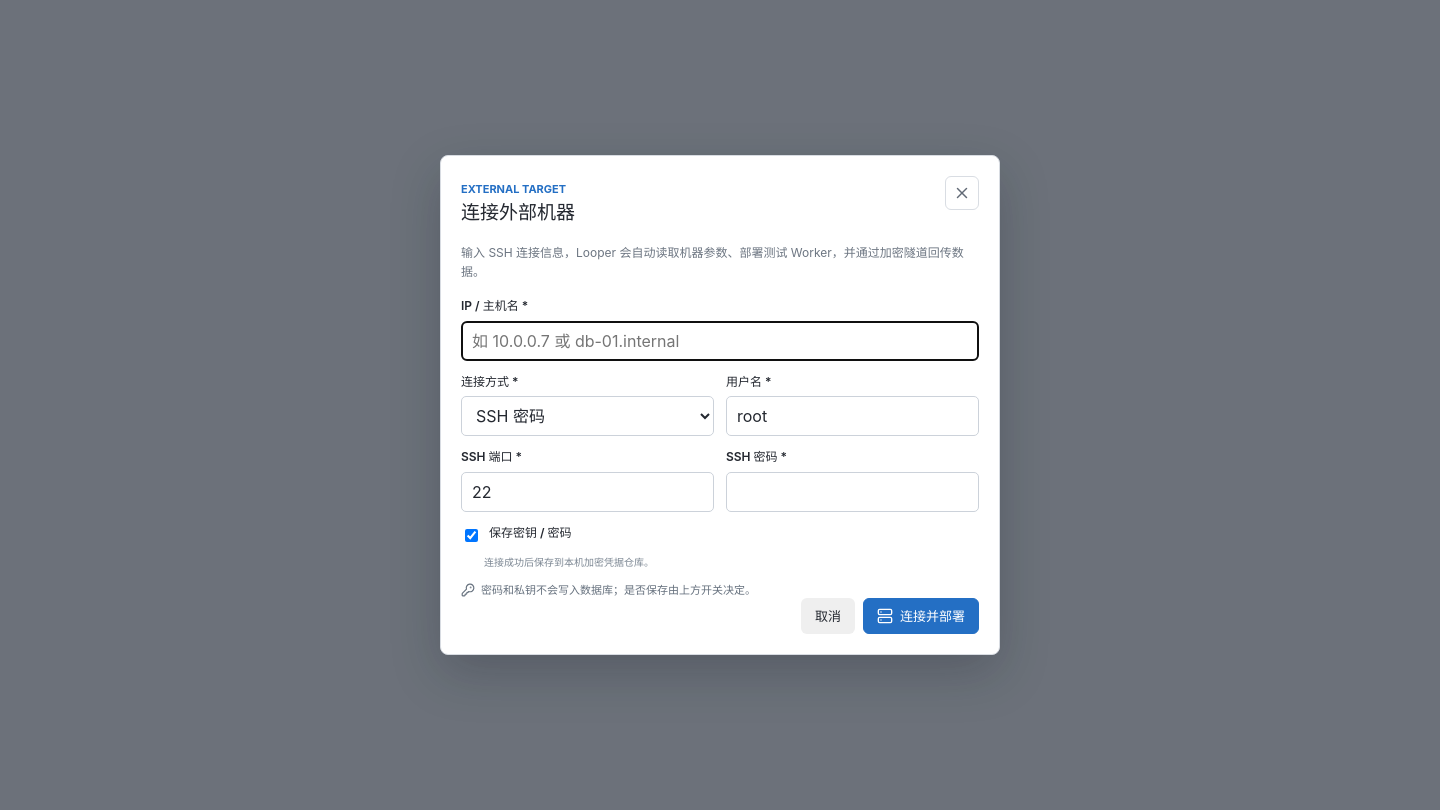
Test: 外部机器 SSH 自动发现 › 只提交连接信息并展示服务端发现的机器参数
Expected: the dropdown labelled "连接方式 *" shows "SSH 密码", [461,396,714,436]
Type "10.0.0.8" into the field labelled "IP / 主机名 *" at (720, 341), box [461,321,979,361]
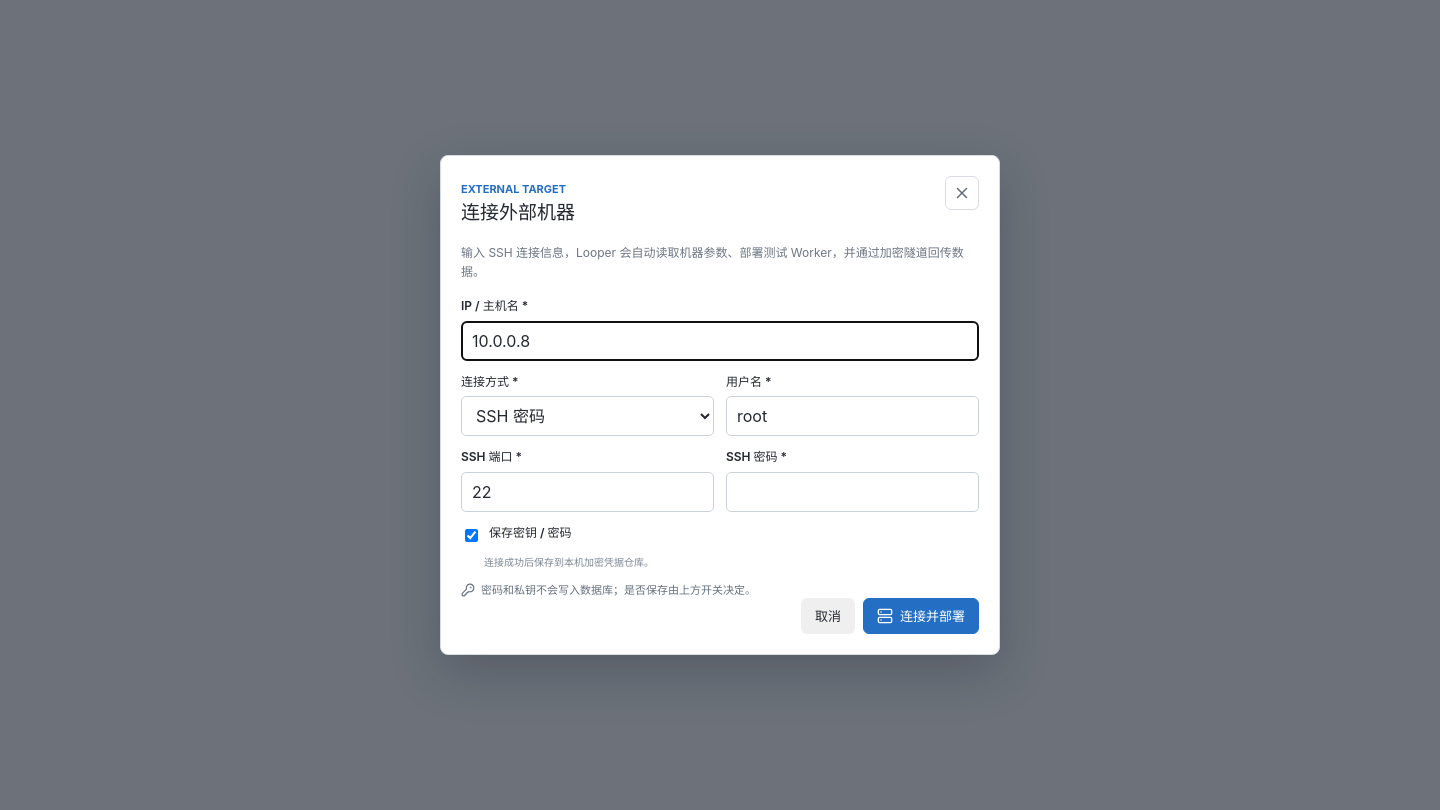
Type "ubuntu" into the field labelled "用户名 *" at (852, 416), box [726,396,979,436]
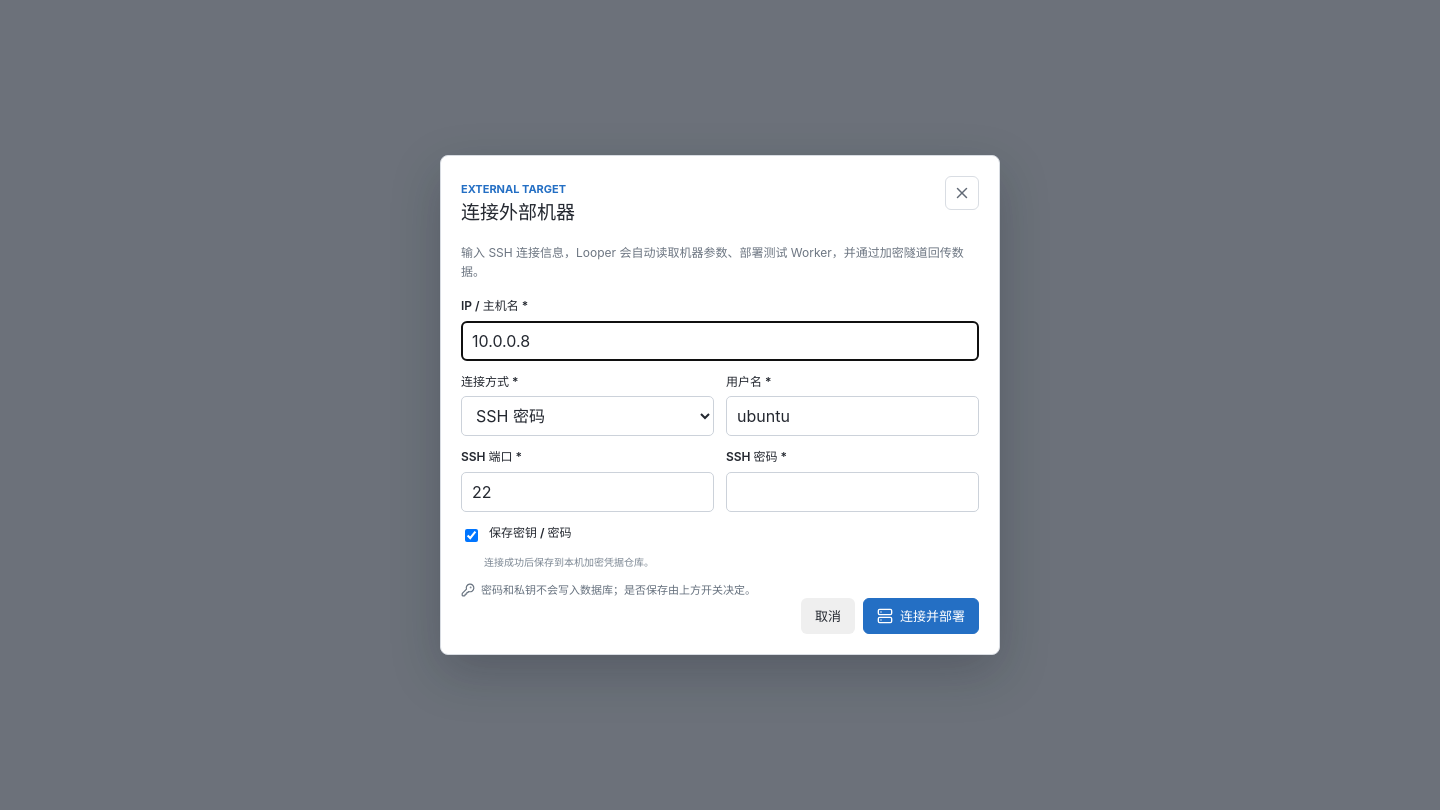
Select "SSH 密码" in the dropdown labelled "连接方式 *" at (588, 416), box [461,396,714,436]
Type "one-time-secret" into the password field labelled "SSH 密码 *" at (852, 492), box [726,472,979,512]
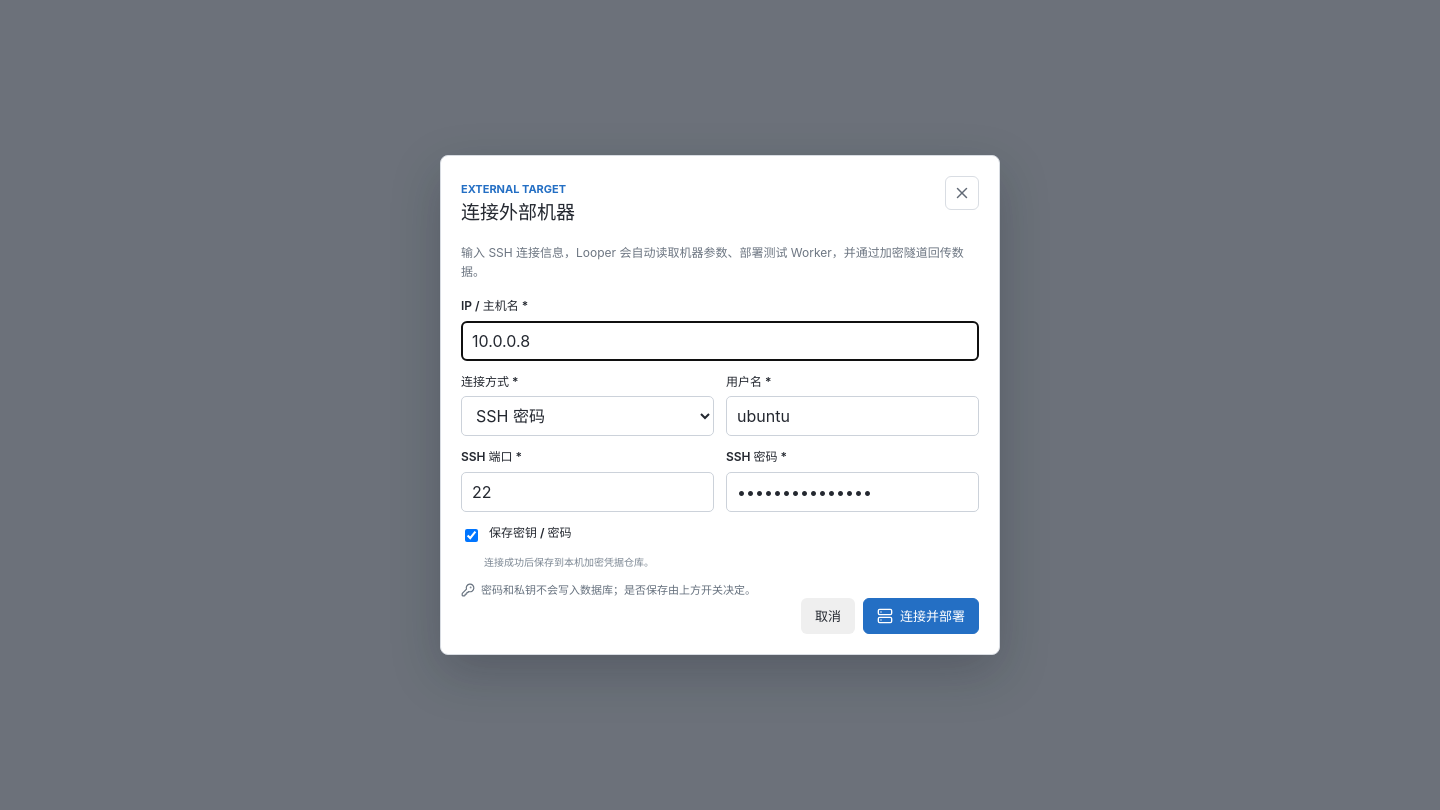
Click the button "连接并部署" at (921, 616), box [863,598,979,634]
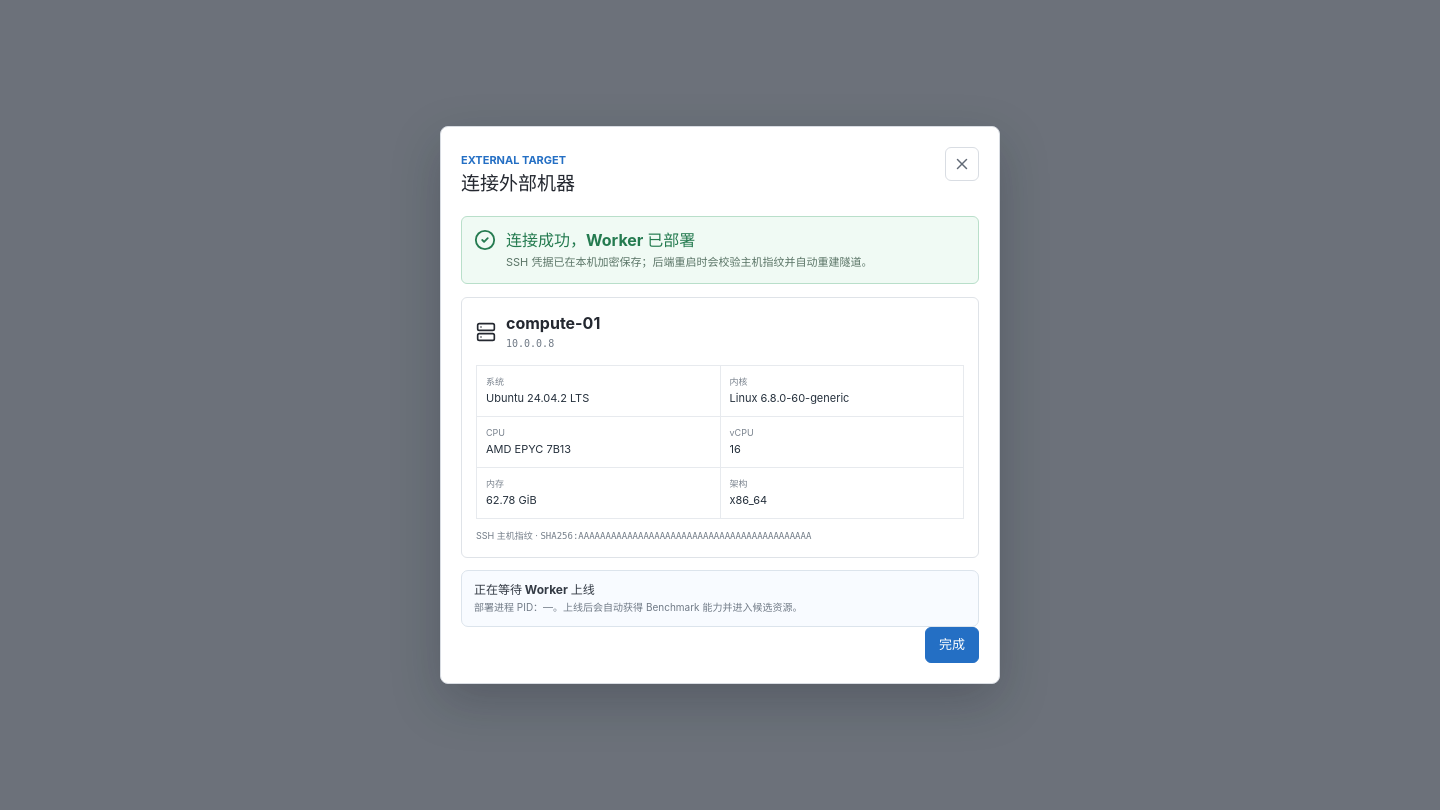
Expected: the text "连接成功，Worker 已部署" is shown, [506,230,695,250]
Expected: the text "compute-01" is shown, [506,312,600,335]
Expected: the text "AMD EPYC 7B13" is shown, [486,442,571,456]
